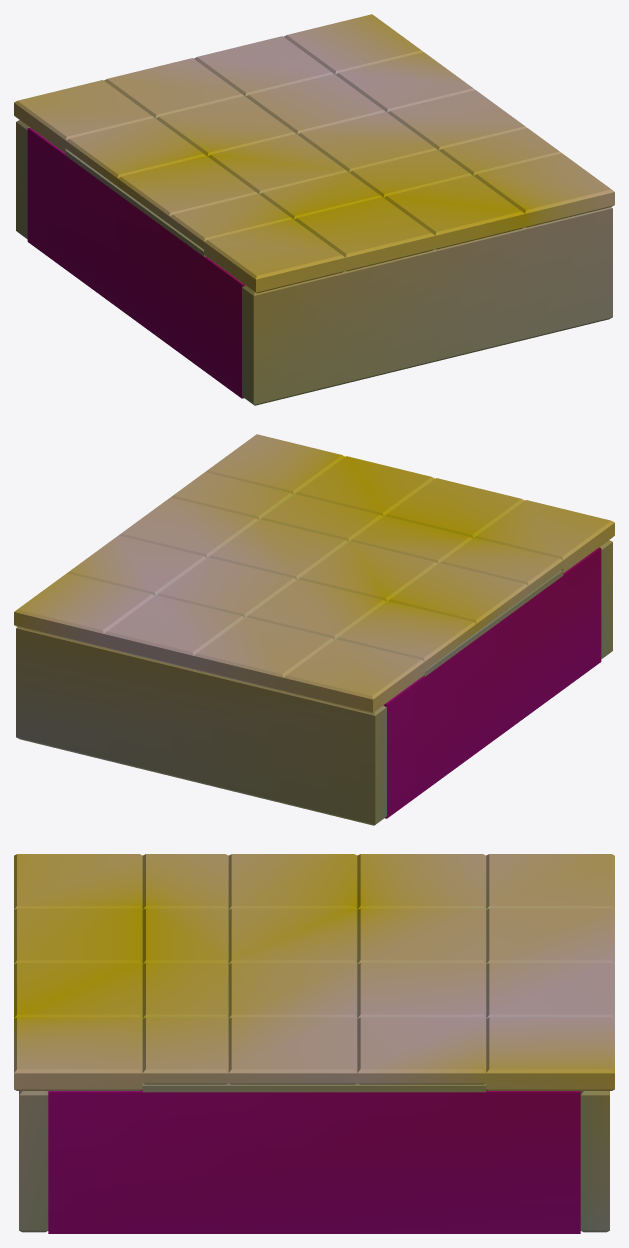
Rendered from Platform_Straight_3m_NoStripe.glb.
3 renders of one model, top to bottom at view 1: azimuth 30°, elevation 25°; view 2: azimuth 150°, elevation 25°; view 3: azimuth 270°, elevation 25°, orthographic. The views are drawn at different scales.
Visible parts, largest first — view 1: Platform_Straight_3m_NoStripe; view 2: Platform_Straight_3m_NoStripe; view 3: Platform_Straight_3m_NoStripe.
Boxes of the visible parts, x1,y1,x2,y2 form: Platform_Straight_3m_NoStripe: [14, 14, 614, 405]; Platform_Straight_3m_NoStripe: [14, 434, 614, 825]; Platform_Straight_3m_NoStripe: [14, 854, 614, 1233].
Bounding box in the file's own units: 3 × 1.05 × 3.5.
